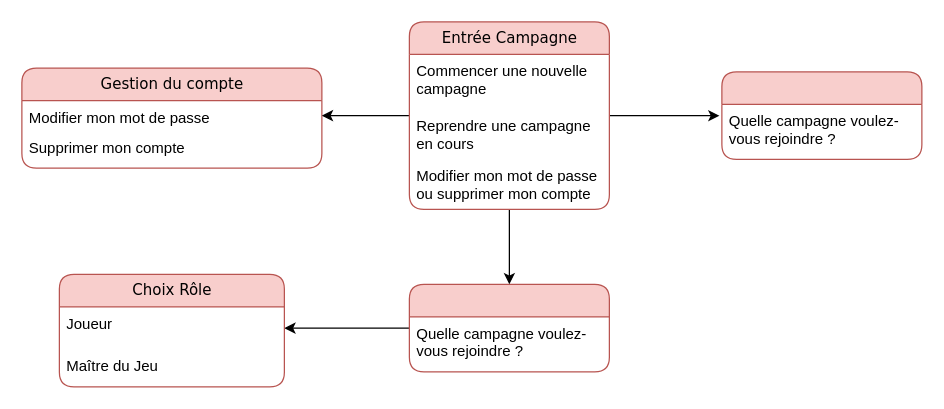
Some shapes in this 944 by 409 pixel diagram are drawn without their labels. The shapes that lost their labels are listed below. From the top down, each one's box as (x1, y1, x2, y2) in pixels, then its label:
(721, 71, 922, 159): Campagne en cours
(408, 283, 609, 372): Nouvelles Campagnes
